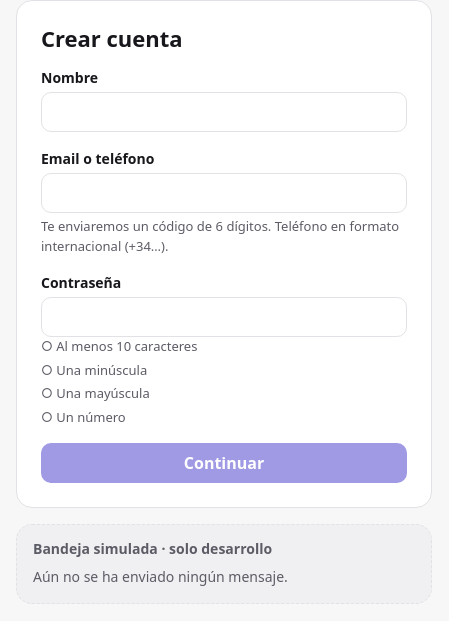
it: RegistrationFlow › bloquea el reenvío con una cuenta atrás hasta que pasa el tiempo de espera
The width and height of the screenshot is (449, 621).
Type "Nuevo" into the field labelled "Nombre" at (224, 112), box [41,92,407,132]
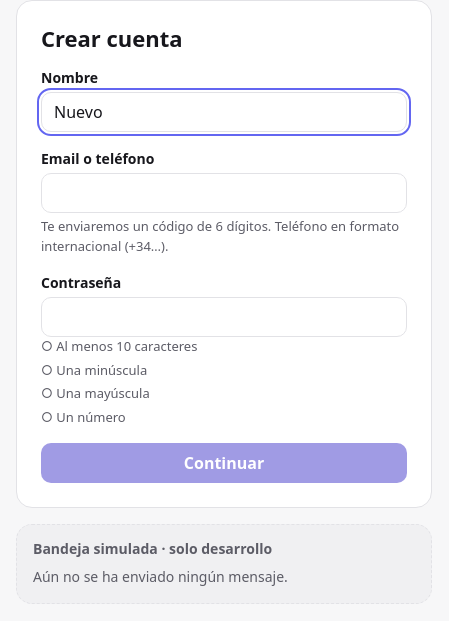
Type "nuevo@acme.test" into the field labelled "Email o teléfono" at (224, 193), box [41,173,407,213]
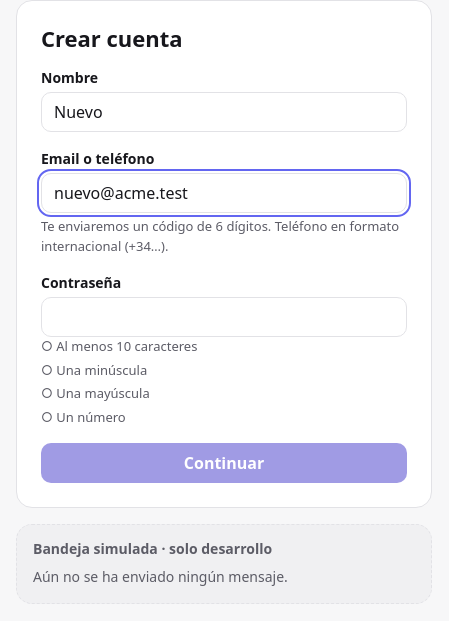
Type "Contrasena-Segura-1" into the password field labelled "Contraseña" at (224, 317), box [41,297,407,337]
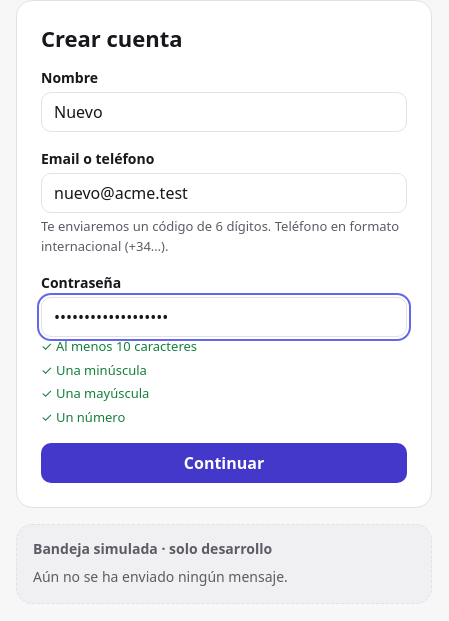
Click the button "Continuar" at (224, 463), box [41,443,407,483]
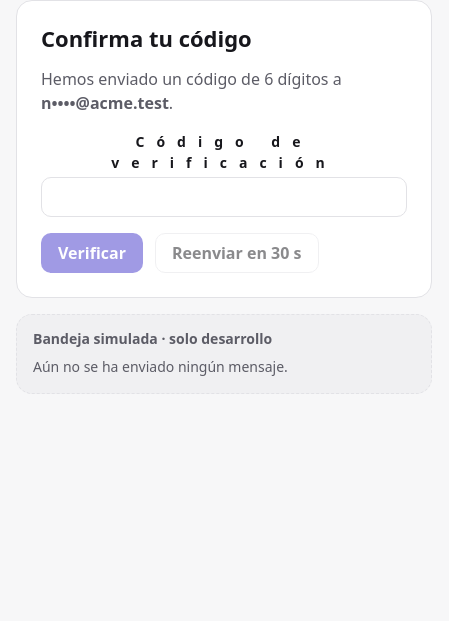
Expected: the button "Reenviar en 30 s" is disabled, [155,233,318,273]
